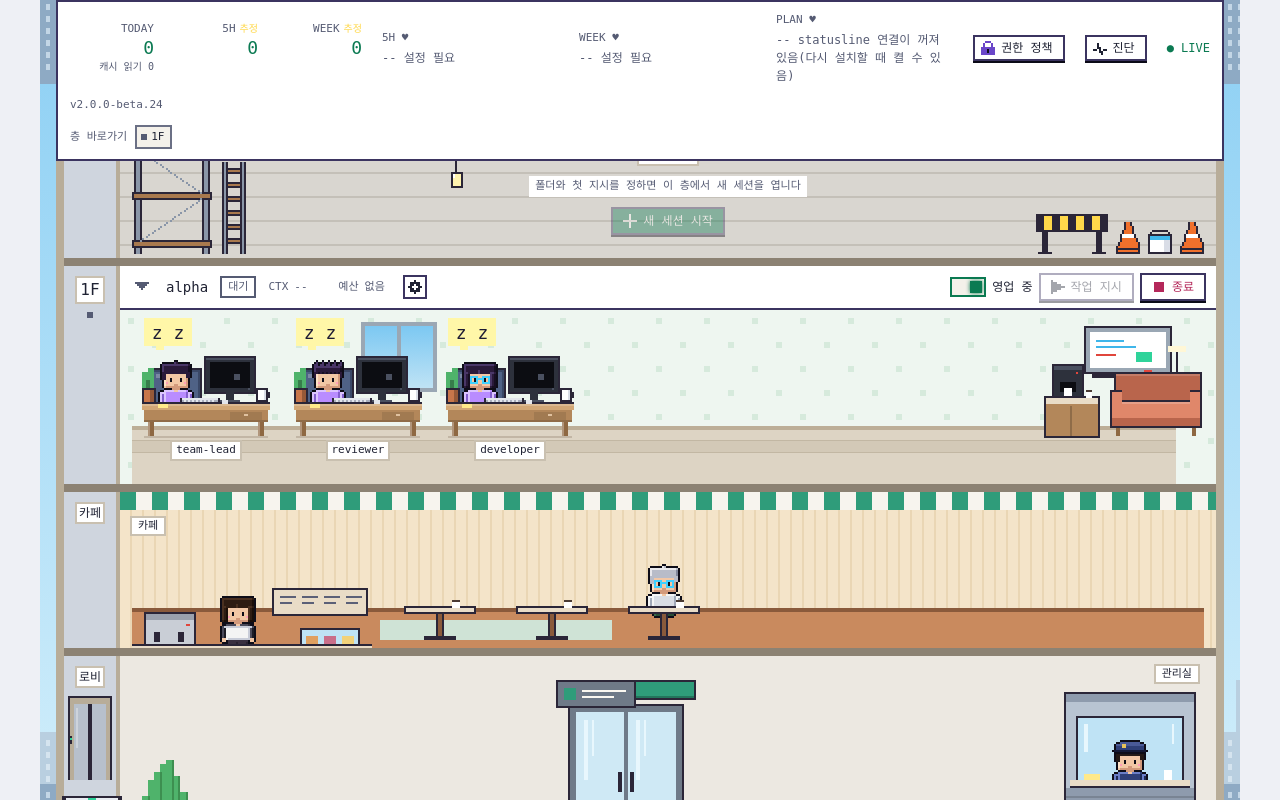
Test: 편집과 저장 › [저장]은 그 대상의 규칙 전체를 PUT한다
(page scrolled)
Click the button with test id "desk-reviewer" at (358, 401), box [292,318,424,484]
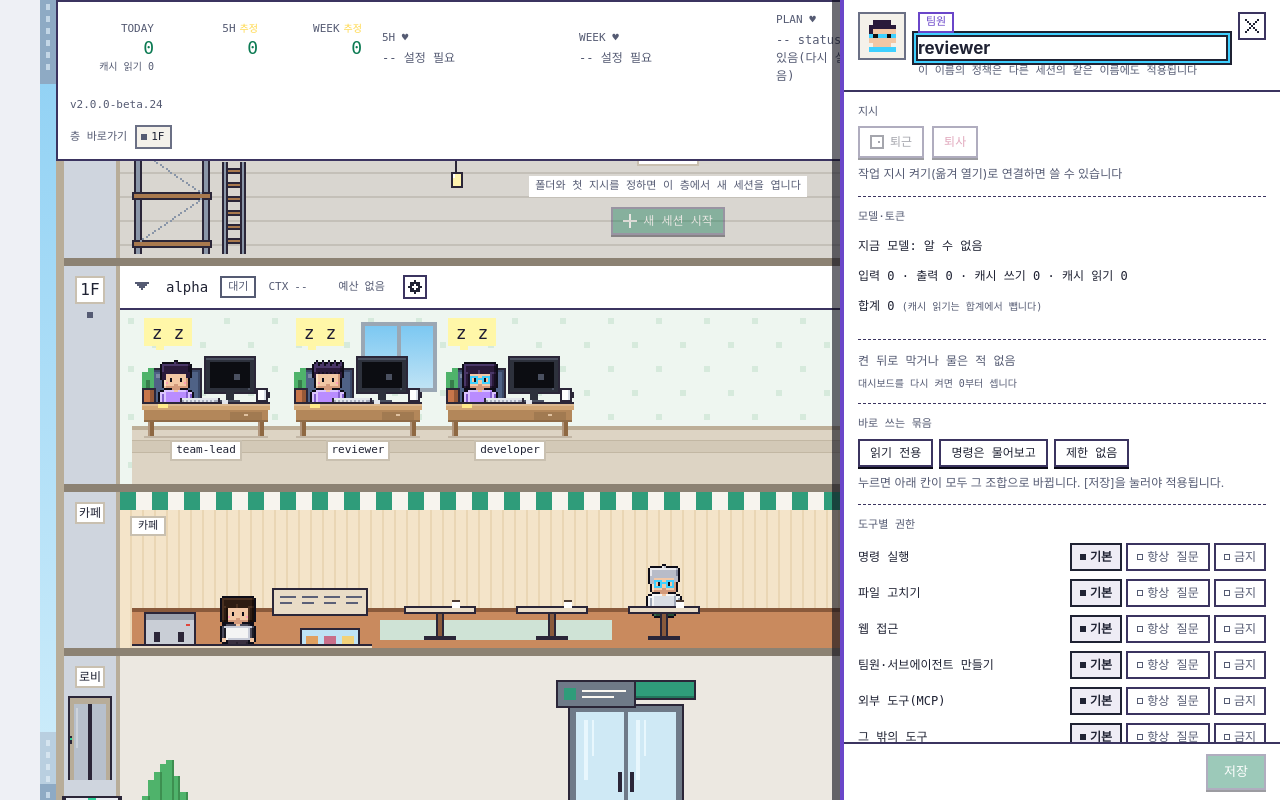
Click the radio button labelled "금지" in the row of "명령 실행" at (1240, 557), box [1214,543,1266,571]
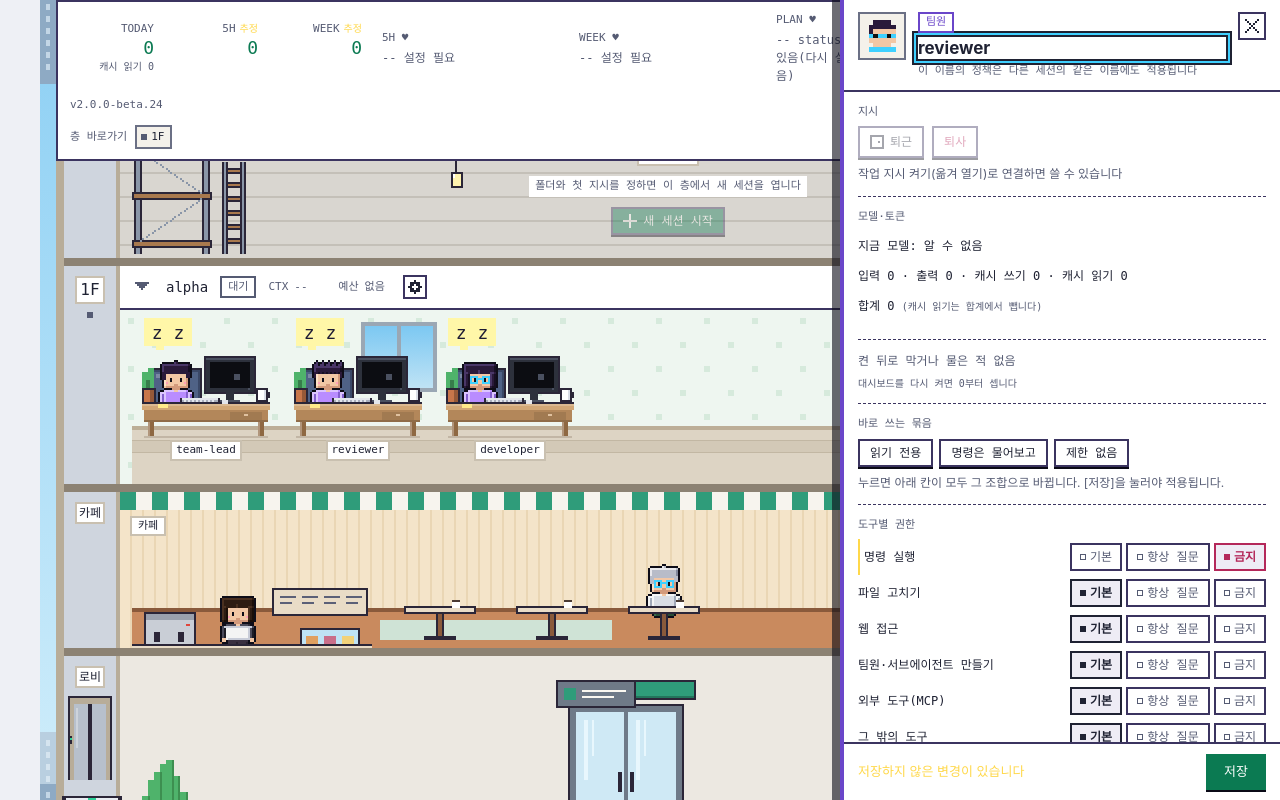
Click the button "저장" at (1236, 772), box [1206,754,1266,790]
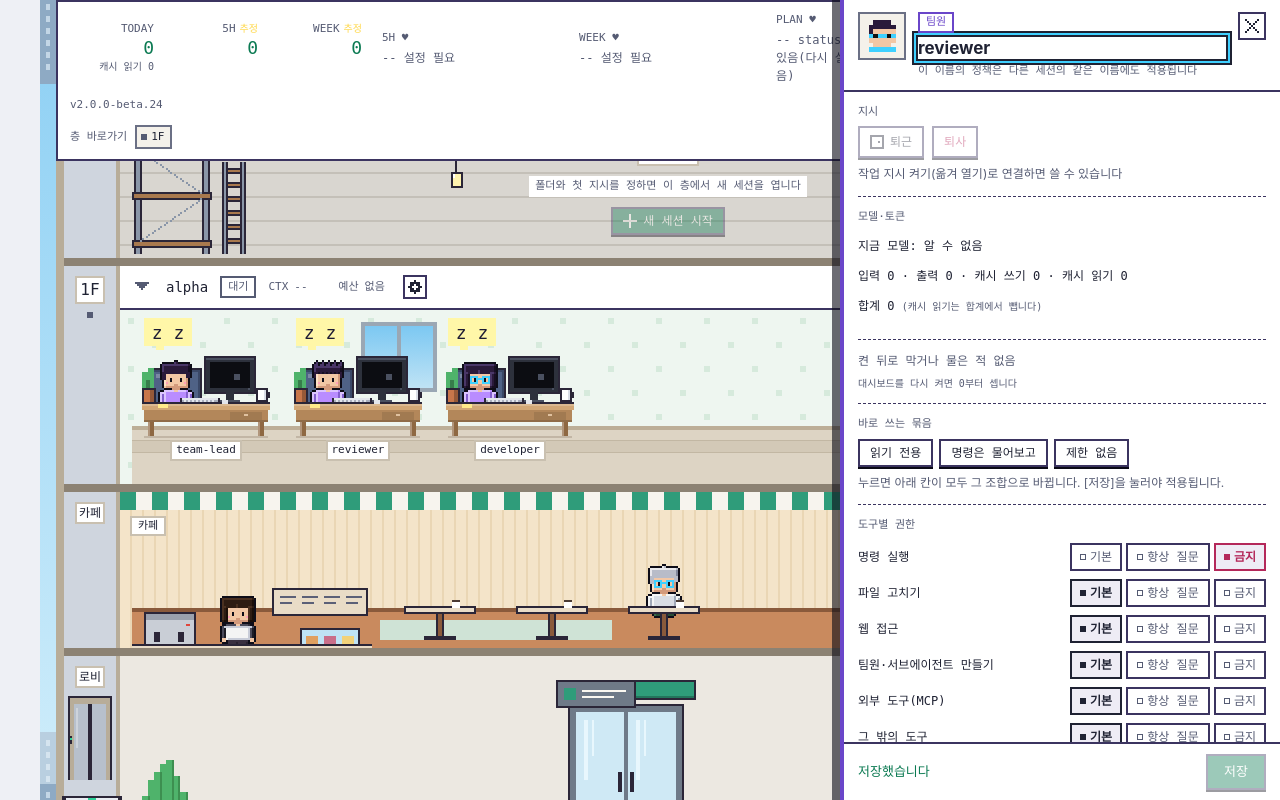
Check: the dialog named "." shows "저장했습니다", box [858,763,930,779]
